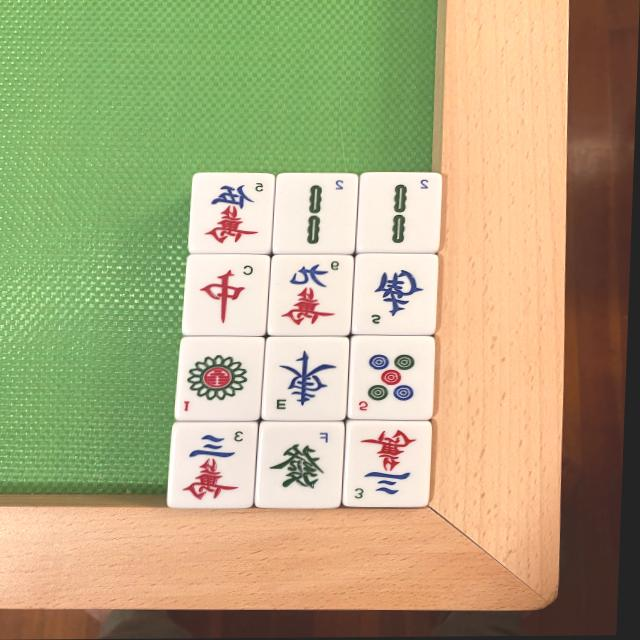1D: (174, 339, 261, 425)
2B: (271, 177, 355, 257), (360, 173, 442, 254)
3C: (344, 423, 434, 511), (168, 424, 257, 512)
5C: (188, 174, 272, 254)
5D: (343, 339, 431, 424)
9C: (268, 254, 353, 336)
EW: (258, 337, 347, 423)
GD: (253, 420, 343, 508)
RD: (182, 253, 268, 337)
SW: (353, 256, 438, 332)
